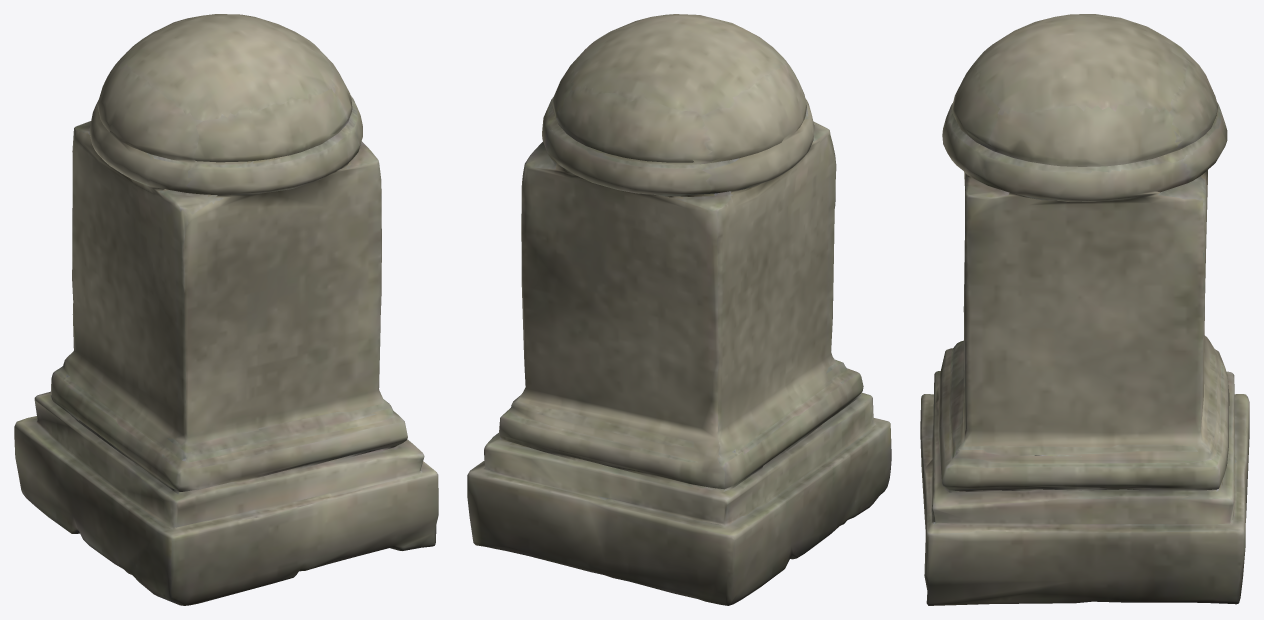
Rendered from chipped-limestone-balustrade-v002.glb.
3 views of the same model, side by side, from view 1: azimuth 30°, elevation 25°; view 2: azimuth 150°, elevation 25°; view 3: azimuth 270°, elevation 25° (orthographic). The views are drawn at different scales.
Visible parts, largest first — view 1: chipped-limestone-balustrade; view 2: chipped-limestone-balustrade; view 3: chipped-limestone-balustrade.
Part boxes in pixels (box(x1,y1,x2,y2)): chipped-limestone-balustrade: box(14, 14, 438, 605); chipped-limestone-balustrade: box(467, 14, 891, 605); chipped-limestone-balustrade: box(920, 14, 1249, 605).
Bounding box in the file's own units: 0.5306 × 0.9191 × 0.5365.
Materials: 1 (1 with a texture image).
